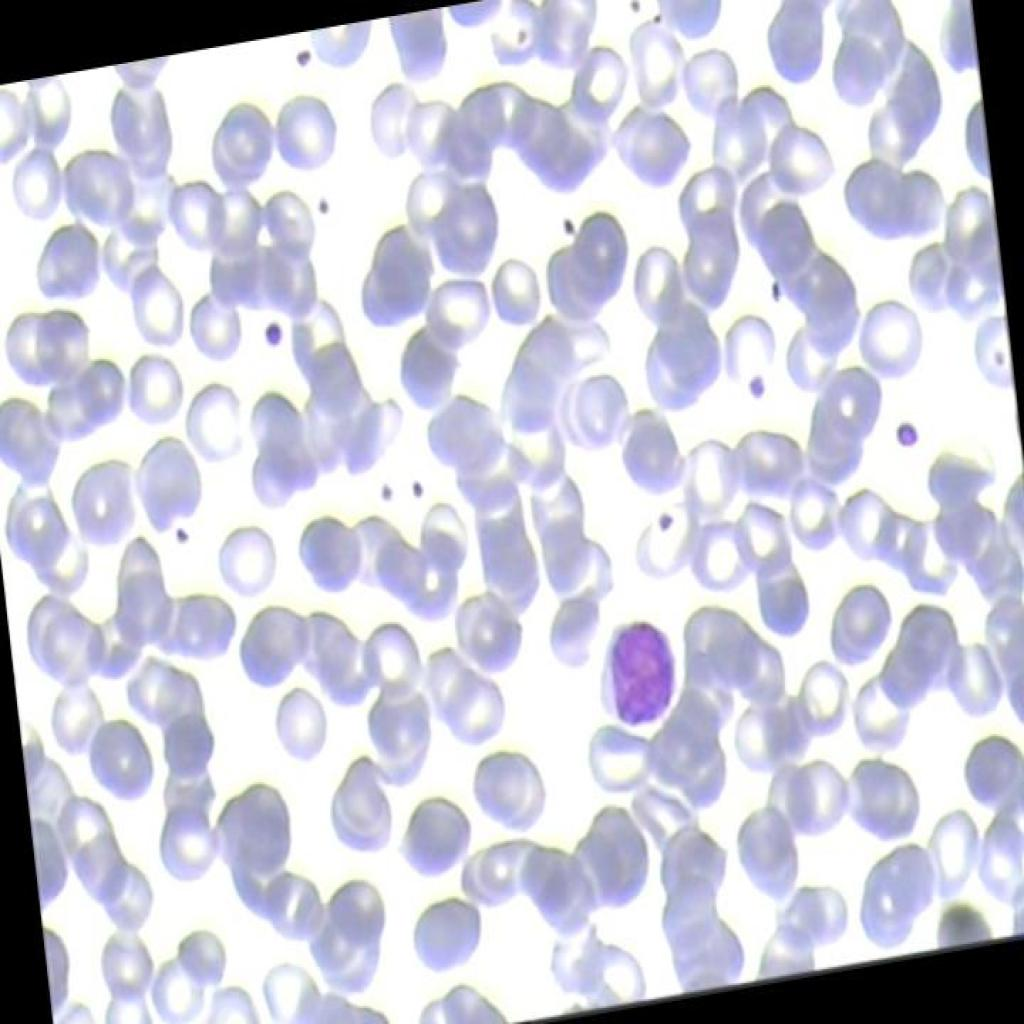Limfosit: (569, 594, 687, 754)
Platelet: (363, 466, 408, 533), (884, 405, 934, 464), (252, 302, 304, 356), (637, 494, 683, 546), (544, 197, 584, 256), (733, 364, 775, 418), (309, 178, 344, 231), (397, 455, 431, 509), (158, 514, 192, 564), (288, 37, 322, 80), (613, 0, 650, 23)
